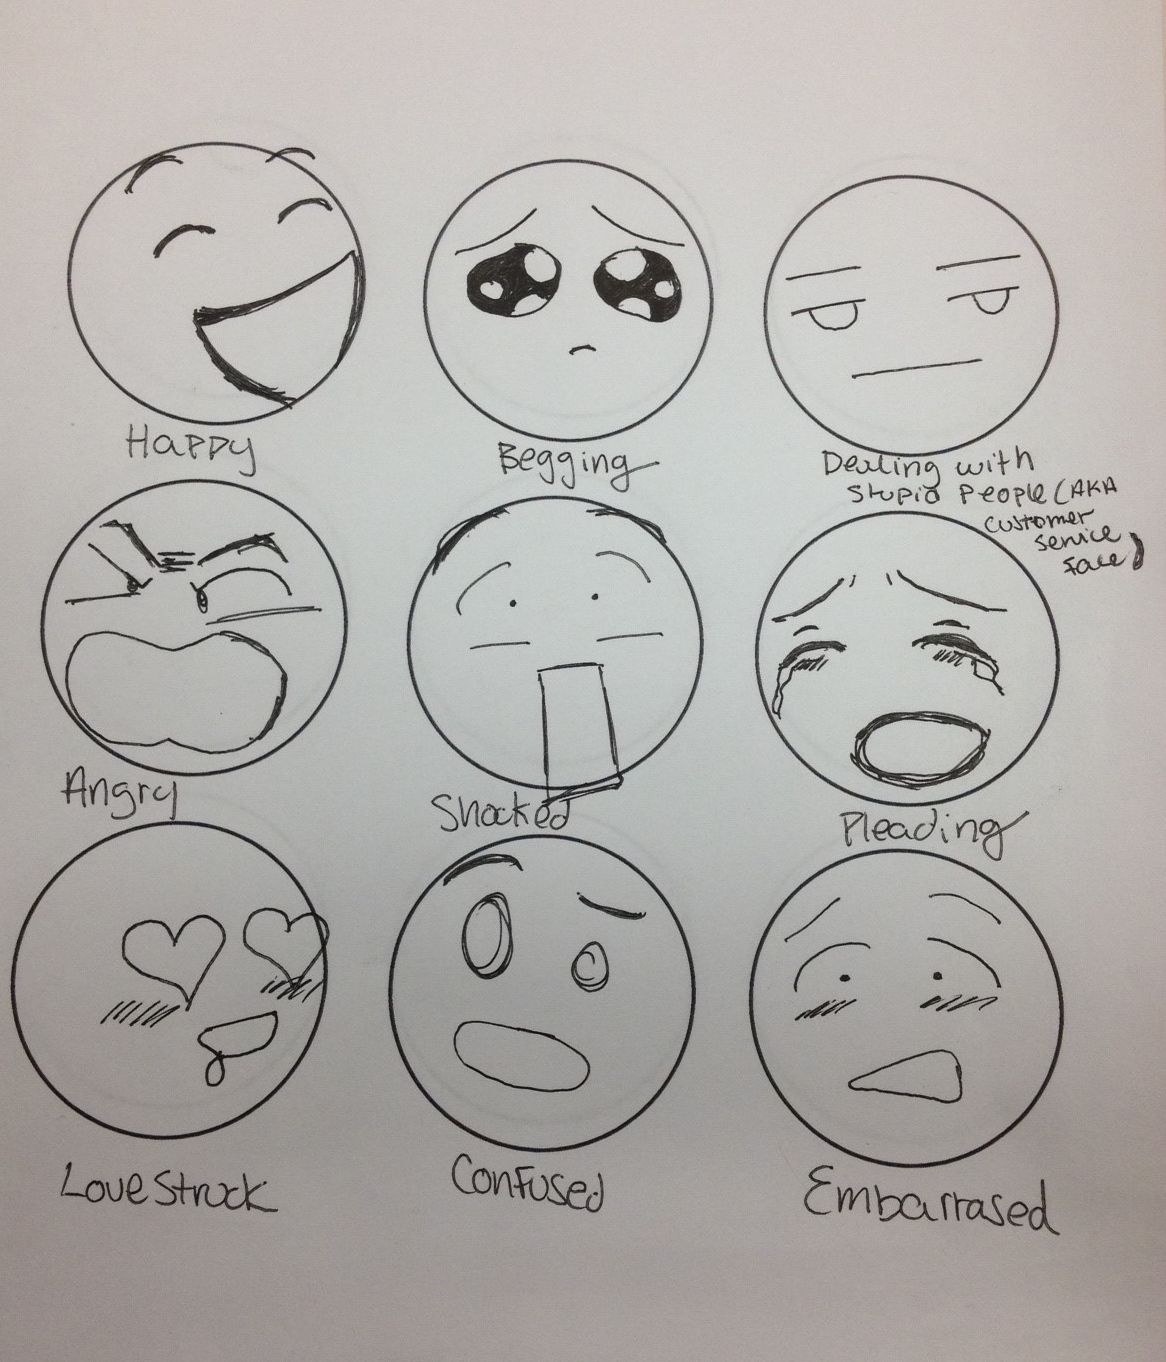feliz: (67, 112, 375, 437)
